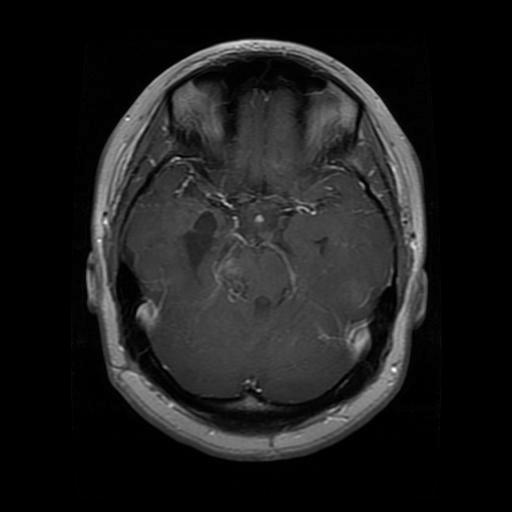Tumour-Glioma: (178, 201, 233, 277)
